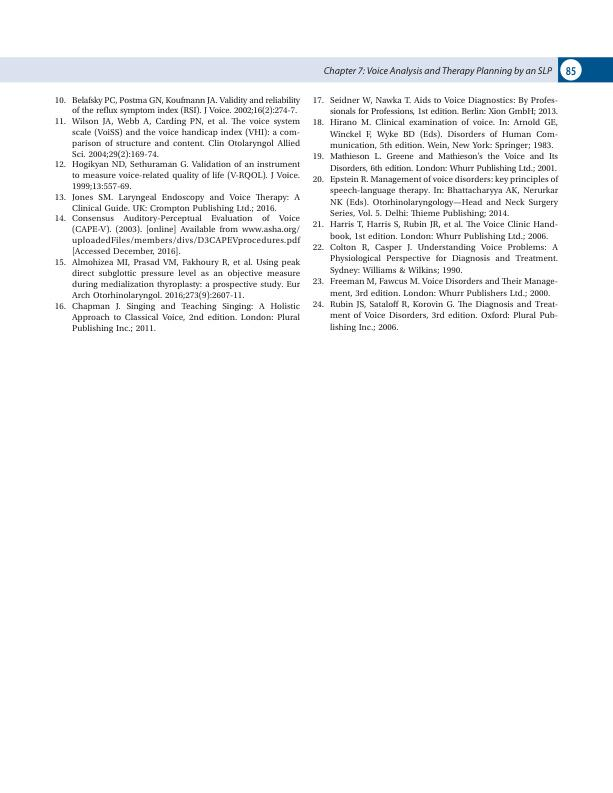header: (323, 65, 553, 76)
list: (54, 94, 301, 335), (312, 95, 560, 333)
